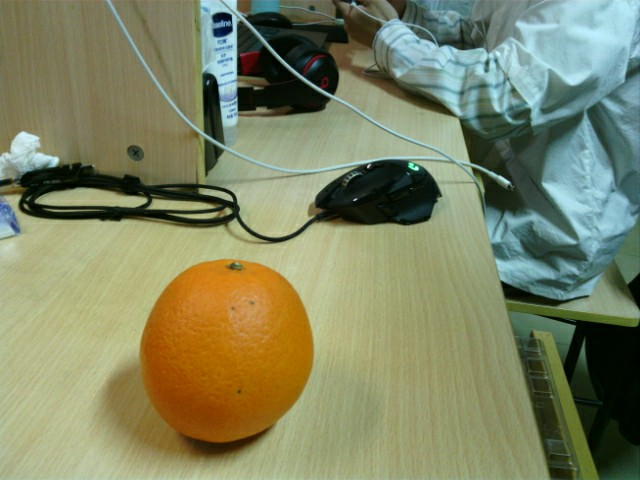normal_orange: (142, 258, 314, 443)
